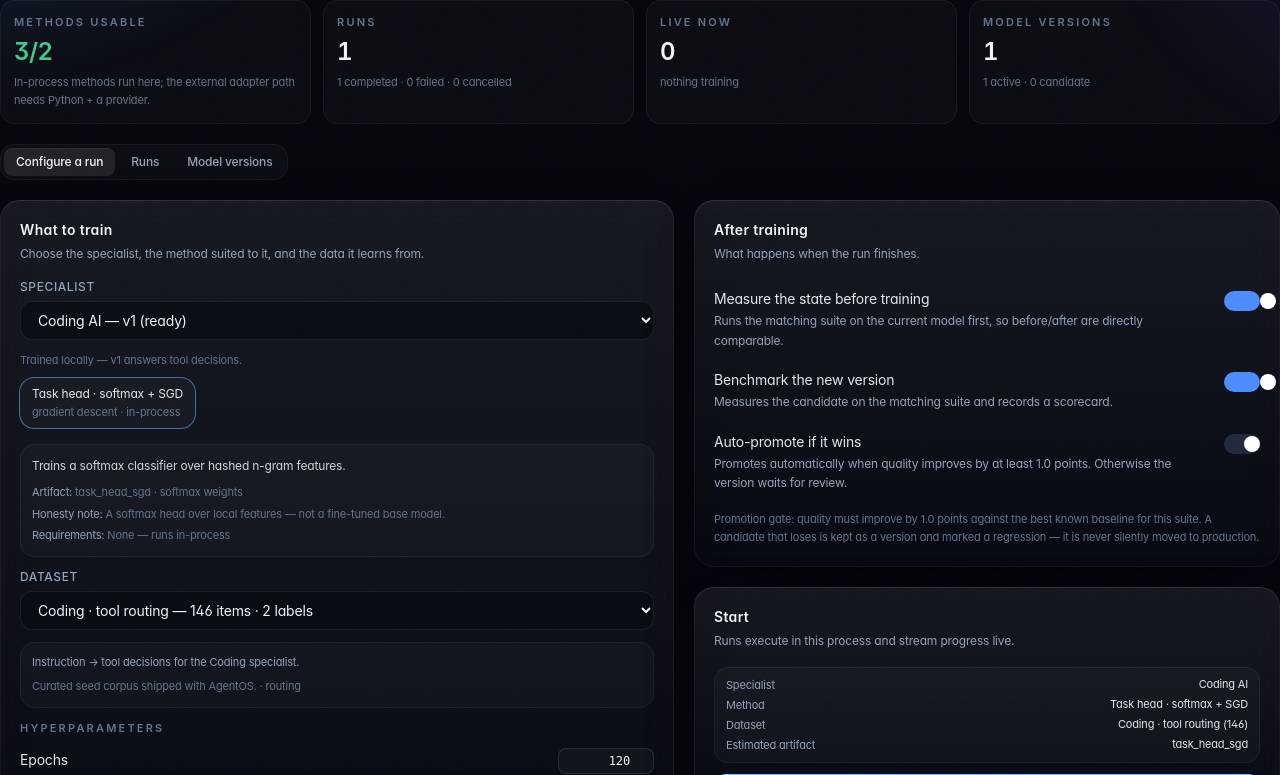
Test: training lab › shows run history with the promotion decision that was actually made
Expected: the button "Task head · softmax + SGD gradient descent · in-process" is shown, [20, 378, 195, 428]
What coordinates should you click on to do the following:
click the tab "Runs"
I would click on:
 (145, 162)
Its box is [119, 148, 171, 176].
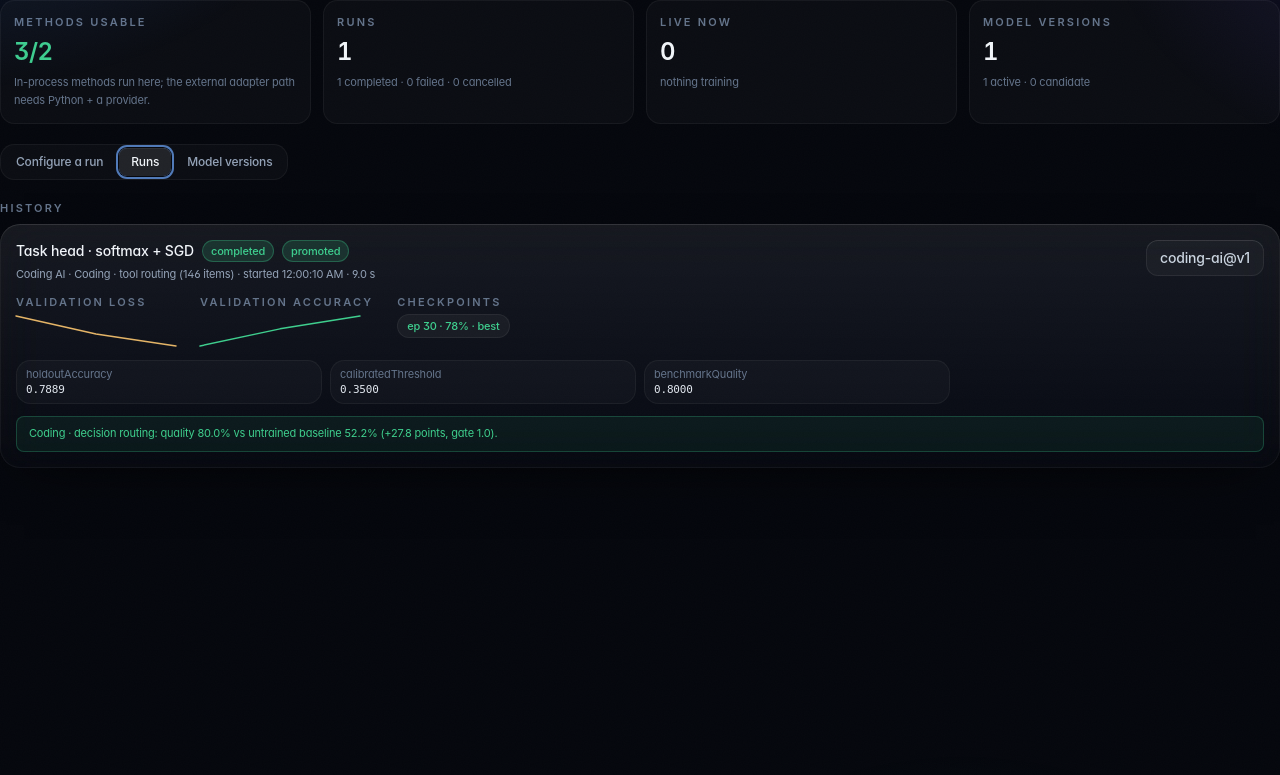
Expected: the text "quality 80.0% vs untrained baseline 52.2%" is shown, [29, 426, 497, 440]
Expected: the text "promoted" is shown, [282, 240, 350, 262]
